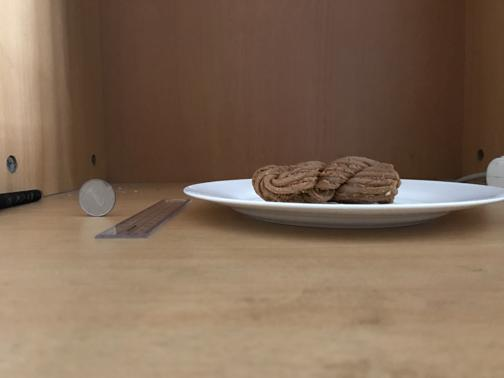coin: (80, 178, 114, 216)
fired_dough_twist: (251, 156, 403, 202)
